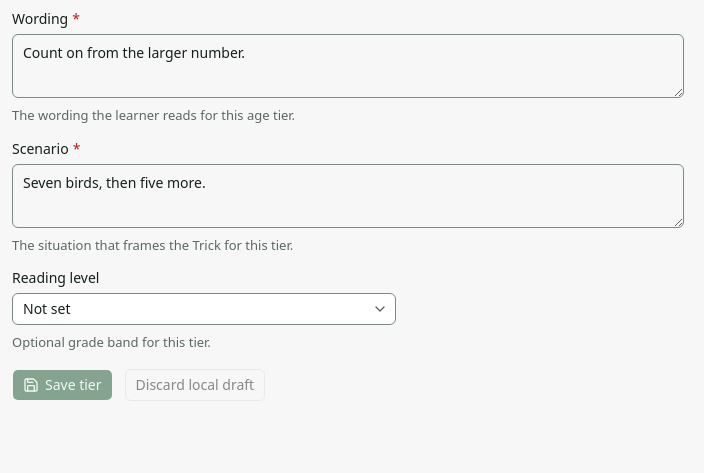
VariantEditor › shows inline errors and focuses the first invalid field before saving
Clear the text box labelled "Wording": (348, 66) [12,34,684,98]
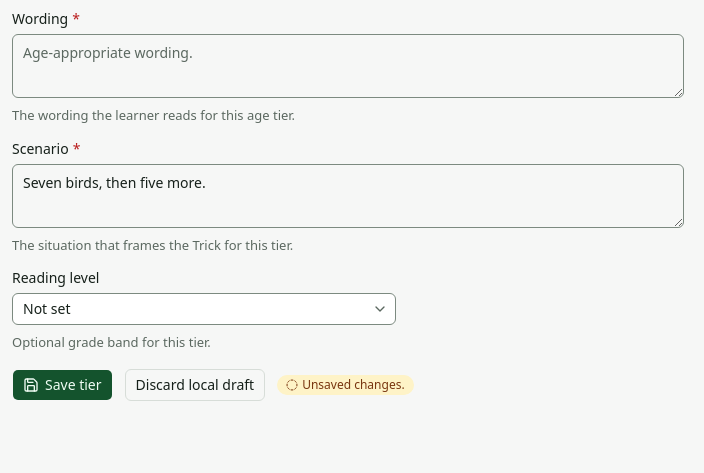
Clear the text box labelled "Scenario": (348, 196) [12,164,684,228]
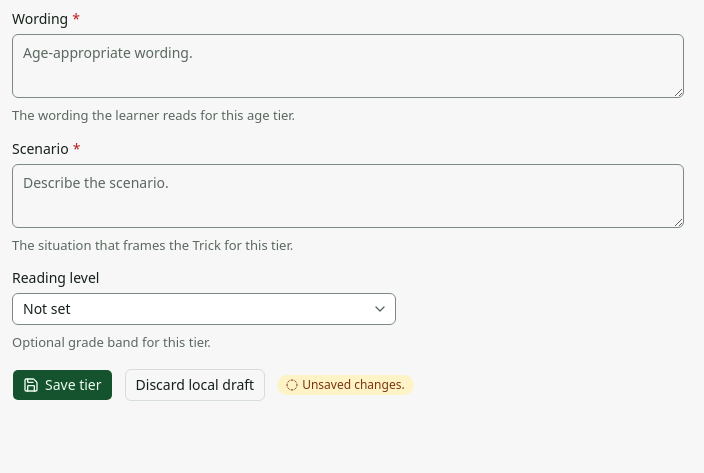
Click the button "Save tier": click(62, 384) [12,368,112,400]
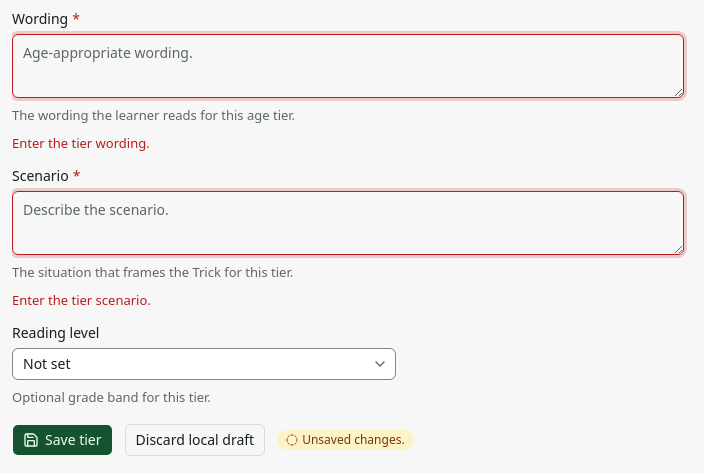
Check: the text "Enter the tier wording." is shown, box [12,134,150,152]
Check: the text "Enter the tier scenario." is shown, box [12,290,151,308]
